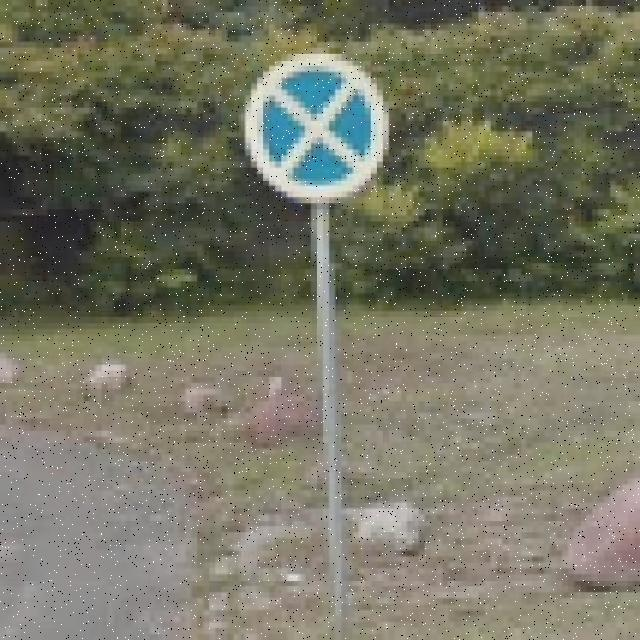Zakaz zatrzymywania sie: (236, 48, 392, 210)
